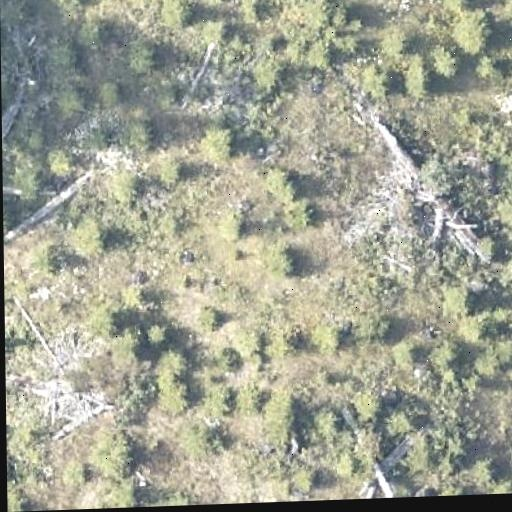tree-top: (86, 423, 141, 477), (148, 344, 196, 402), (252, 384, 300, 433), (449, 3, 494, 54), (198, 120, 245, 168), (64, 212, 108, 263), (467, 335, 512, 383), (83, 298, 128, 344), (177, 420, 222, 461), (264, 236, 303, 280), (210, 205, 249, 249), (304, 315, 347, 354), (360, 61, 399, 101), (300, 402, 338, 442), (108, 167, 146, 207), (264, 163, 301, 202), (38, 44, 85, 74), (378, 400, 416, 437), (247, 54, 281, 95), (430, 42, 465, 81), (398, 59, 435, 95), (417, 158, 452, 196), (350, 385, 384, 424), (438, 278, 472, 317), (297, 0, 333, 36), (286, 461, 319, 495), (76, 14, 109, 48), (47, 145, 79, 180), (55, 84, 86, 119), (0, 0, 31, 35), (379, 26, 414, 57), (128, 44, 161, 73), (429, 342, 461, 371), (197, 19, 233, 44), (473, 456, 502, 487), (287, 198, 317, 227), (474, 229, 502, 260), (309, 37, 335, 69), (167, 0, 193, 24), (434, 0, 470, 5)
